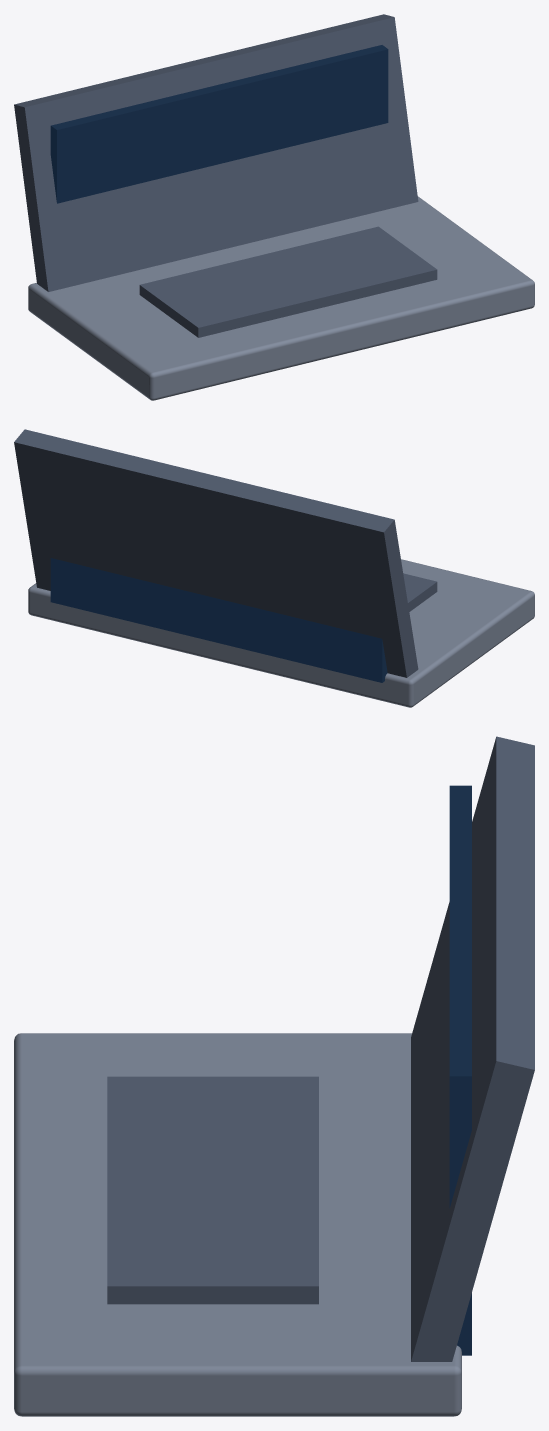
Rendered from laptop-lite.glb.
3 views of the same model, one above another, from view 1: azimuth 30°, elevation 25°; view 2: azimuth 150°, elevation 25°; view 3: azimuth 270°, elevation 25° (orthographic). The views are drawn at different scales.
Visible parts, largest first — view 1: laptop; view 2: laptop; view 3: laptop.
Boxes of the visible parts, x1,y1,x2,y2 form: laptop: [14, 14, 534, 400]; laptop: [14, 429, 534, 707]; laptop: [14, 736, 534, 1416].
Bounding box in the file's own units: 0.36 × 0.1744 × 0.2344.
